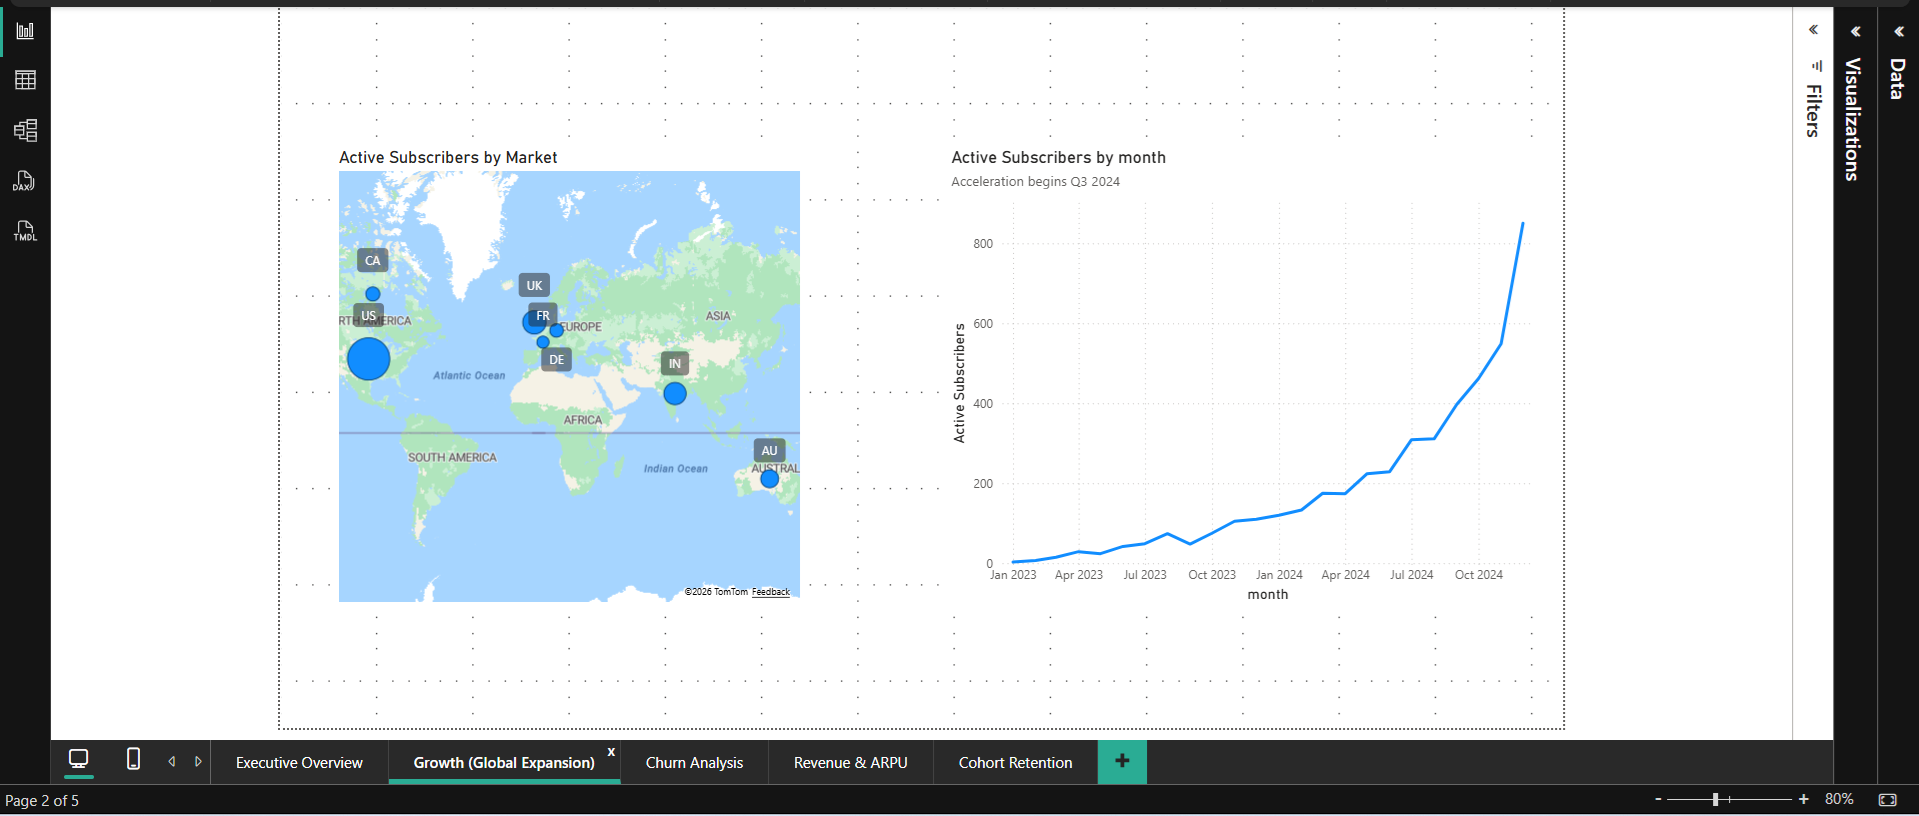

What the dashboard file says about the page in this screenshot:
{"tool":"powerbi","page":{"name":"Growth (Global Expansion)","canvas":[1280,720],"ordinal":1},"visuals":[{"type":"azureMap","title":"Active Subscribers by Market","fields":{"Category":["subscriptions_enriched.country"],"Size":["subscriptions_enriched.Active Subscribers"]},"box":[53.3,140.2,469.8,458.5],"z":0},{"type":"lineChart","fields":{"Y":["subscriptions_enriched.Active Subscribers"],"Category":["subscriptions_enriched.month"]},"box":[664.7,140.2,604.4,458.5],"z":1000}]}

Visuals, with their boxes on the page's 1280x720 design canvas (x1, y1, x2, y2). These are canvas units, not pixel positions in the 1919x816 screenshot, which may show the page scaled, cropped or inside an application window:
"Active Subscribers by Market" azureMap: 53:140:523:599
lineChart - subscriptions_enriched.Active Subscribers x subscriptions_enriched.month: 665:140:1269:599
